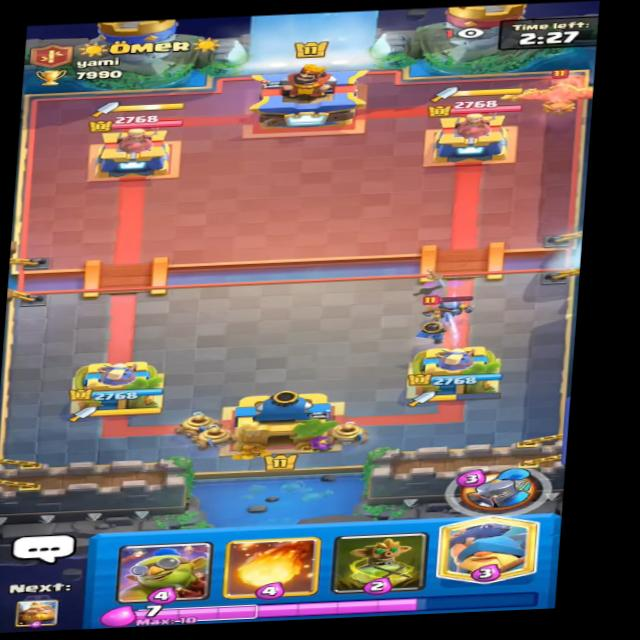mini-pekka: (417, 292, 481, 323)
phoenix: (496, 65, 610, 119)
